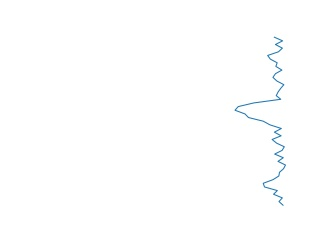interdistributaryEstuary: (232, 32, 289, 209)
